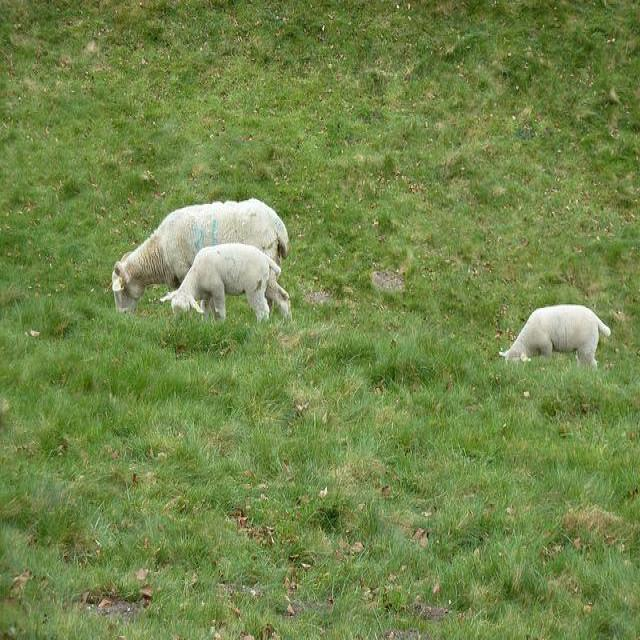Sheep: (108, 197, 290, 319), (159, 242, 292, 330), (500, 304, 613, 376)
